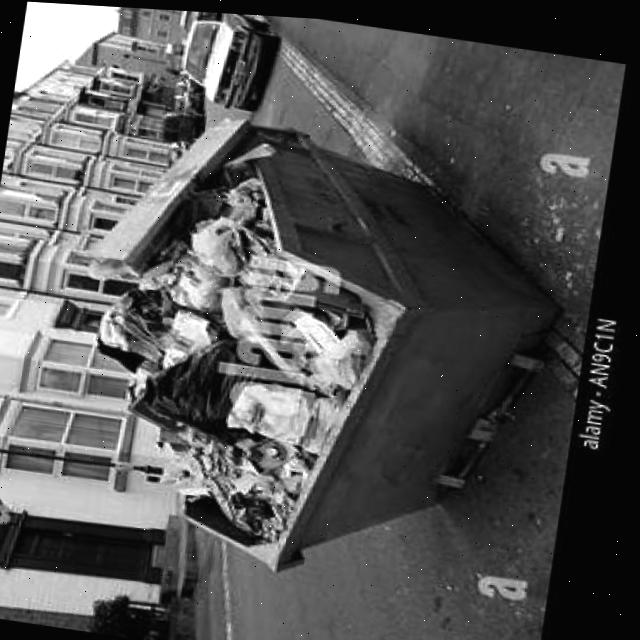Garbage: (101, 116, 378, 538)
Plastic_Bag: (152, 334, 260, 439), (231, 377, 343, 448), (297, 306, 375, 383), (171, 186, 232, 235), (194, 214, 244, 273), (173, 260, 231, 307), (228, 173, 263, 217)
